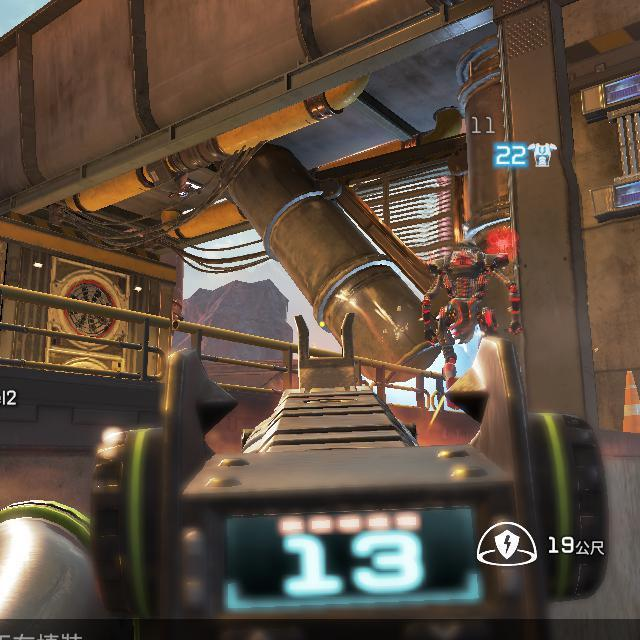avatar: (421, 236, 522, 338)
object: (486, 225, 519, 257)
